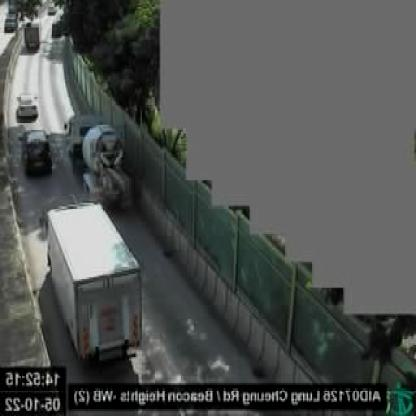Car: (24, 128, 54, 175), (18, 92, 39, 119)
Truck: (47, 201, 143, 361), (70, 111, 135, 203)
